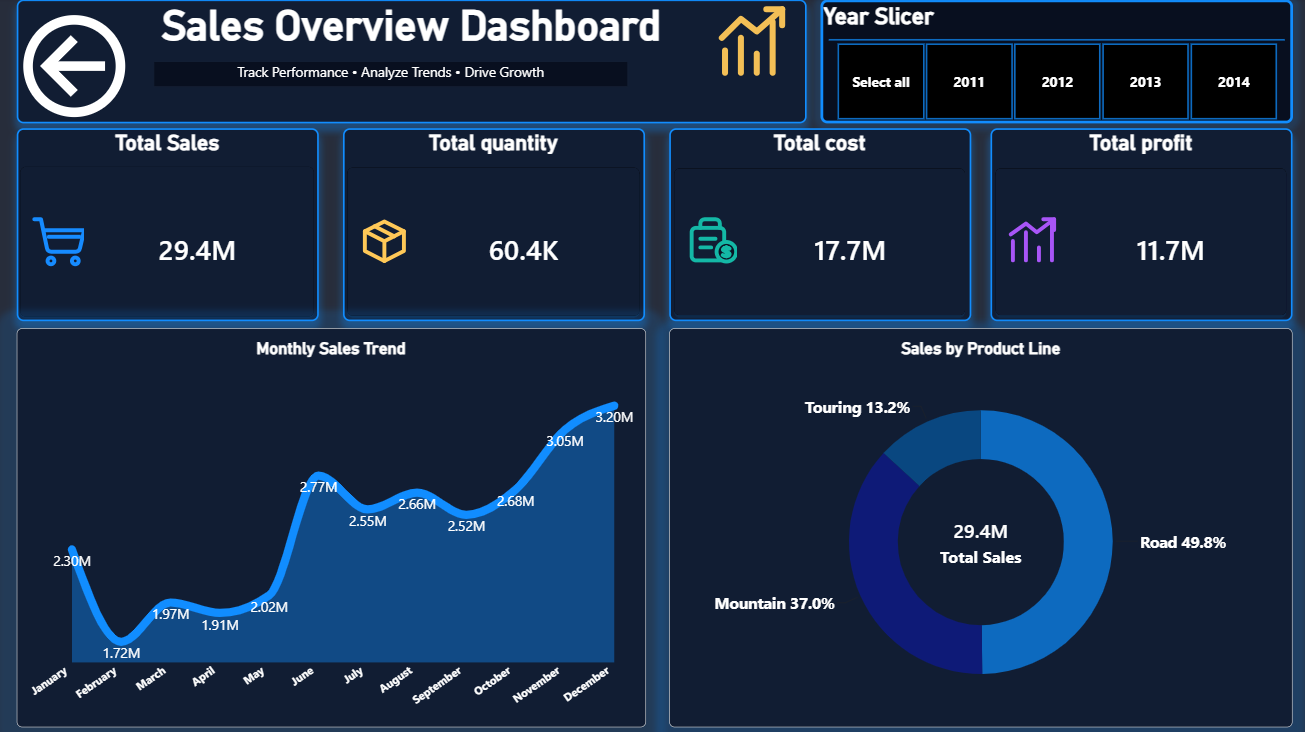

What the dashboard file says about the page in this screenshot:
{"tool":"powerbi","page":{"name":"Sales Overview","canvas":[1920,1080],"ordinal":1},"visuals":[{"type":"textbox","title":"Sales Overview Dashboard","box":[26.8,4.1,1152.7,181.1],"z":0},{"type":"textbox","box":[227.5,95,690,35],"z":1000},{"type":"slicer","title":"Year Slicer","fields":{"Values":["Dim_Date.Date.Variation.Date Hierarchy.Year"]},"box":[1200,4.1,689.5,181.1],"z":2000},{"type":"cardVisual","title":"Total Sales","fields":{"Data":["products.Total Sales"]},"box":[26.8,191.4,440.5,282],"z":3000},{"type":"cardVisual","title":"Total quantity","fields":{"Data":["products.total quantity"]},"box":[504.3,191.4,440.5,282],"z":4000},{"type":"cardVisual","title":"Total cost","fields":{"Data":["products.Total Cost"]},"box":[979.8,191.4,440.5,282],"z":5000},{"type":"cardVisual","title":"Total profit","fields":{"Data":["Sum(gold fact_sales.profit)"]},"box":[1449.1,191.4,440.5,282],"z":6000},{"type":"stackedAreaChart","title":"Monthly Sales Trend","fields":{"Category":["Dim_Date.Date.Variation.Date Hierarchy.Month"],"Y":["products.Total Sales"]},"box":[26.8,483.7,918,582.5],"z":7000},{"type":"donutChart","title":"Sales by Product Line","fields":{"Category":["products.product_line"],"Y":["products.Total Sales"]},"box":[979.8,483.7,909.8,582.5],"z":8000},{"type":"image","box":[1047.7,4.1,111.1,129.7],"z":9000},{"type":"actionButton","box":[26.8,3.6,167.9,180.4],"z":10000}]}

Visuals, with their boxes in screenshot pixels (x1, y1, x2, y2), scaled from the page's 1920x1080 canvas onto the 1305x732 screenshot:
"Sales Overview Dashboard" textbox: bbox=[18, 3, 802, 126]
textbox: bbox=[155, 64, 624, 88]
"Year Slicer" slicer: bbox=[816, 3, 1284, 126]
"Total Sales" cardVisual: bbox=[18, 130, 318, 321]
"Total quantity" cardVisual: bbox=[343, 130, 642, 321]
"Total cost" cardVisual: bbox=[666, 130, 965, 321]
"Total profit" cardVisual: bbox=[985, 130, 1284, 321]
"Monthly Sales Trend" stackedAreaChart: bbox=[18, 328, 642, 723]
"Sales by Product Line" donutChart: bbox=[666, 328, 1284, 723]
image: bbox=[712, 3, 788, 91]
actionButton: bbox=[18, 2, 132, 125]
